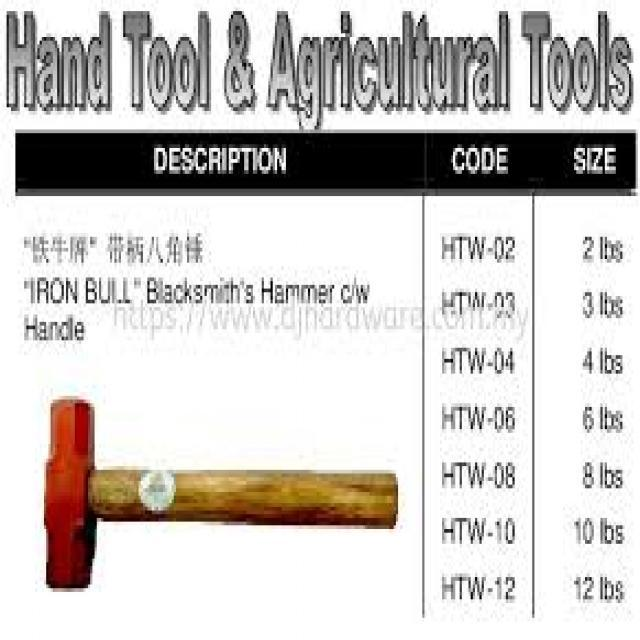hammer: (35, 390, 409, 601)
